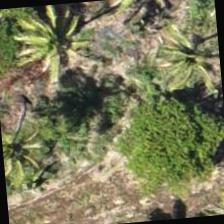Kelapa_Sawit: (131, 5, 222, 102), (2, 1, 97, 84), (0, 109, 57, 204)
